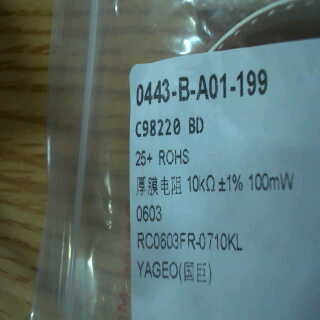10kR: (185, 172, 218, 194)
